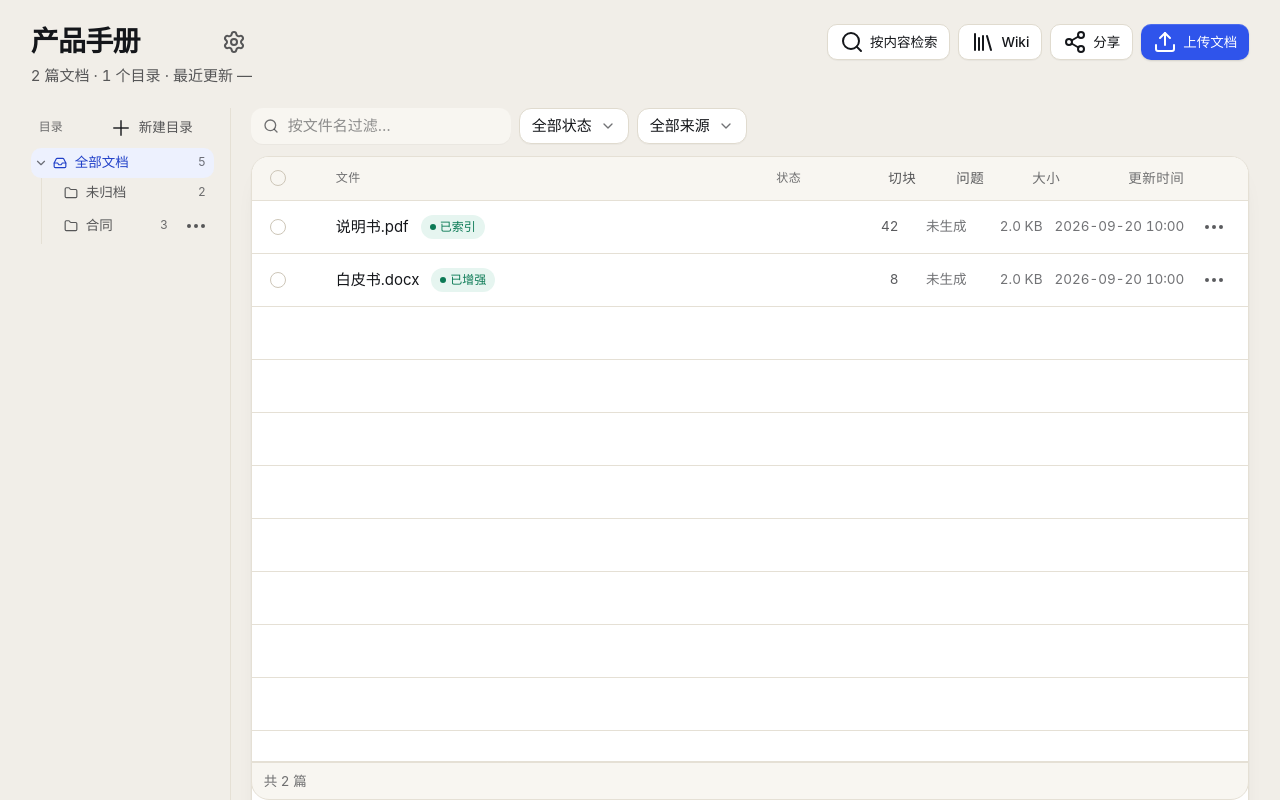
it: 多选与批量 › 表头全选只吃当前页，批量删除走确认弹窗并把 id 原样送出
The image size is (1280, 800).
Expected: the text "说明书.pdf" is shown, [336,215,409,238]
Click the checkbox named "全选本页" at (278, 178), box [270,170,286,186]
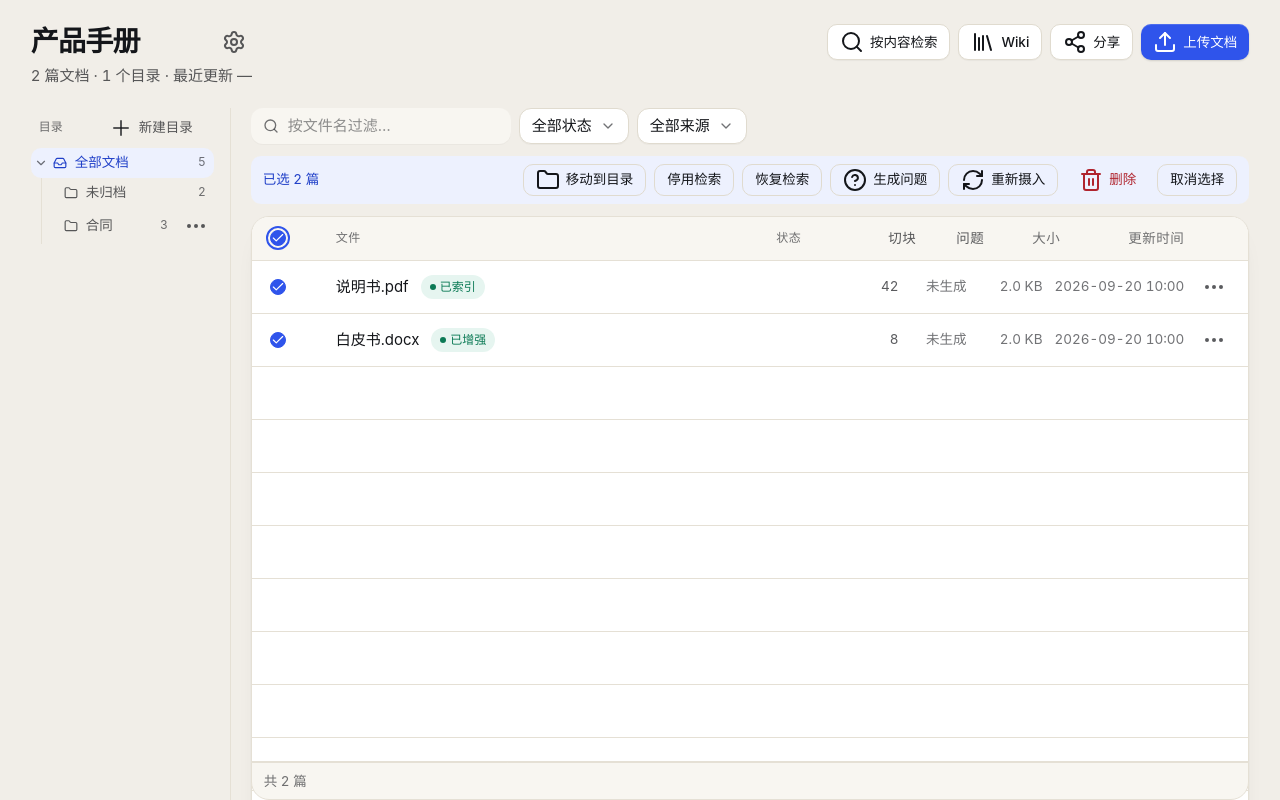
Expected: the text "已选 2 篇" is shown, [263,169,319,190]
Click the button "删除" at (1108, 180), box [1066,164,1149,196]
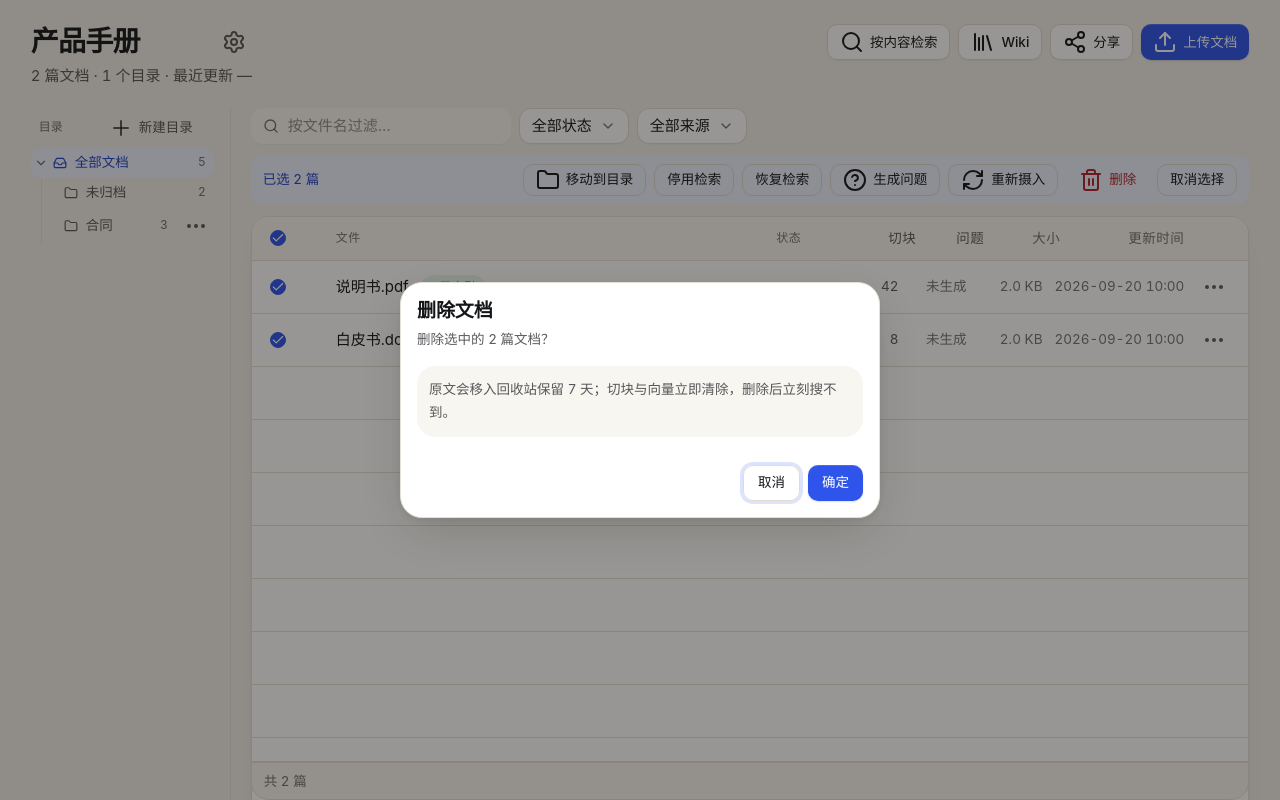
Expected: the text "删除选中的 2 篇文档？" is shown, [417,329,554,350]
确认弹窗是 `@/ui/alert-dialog`（Radix）：role 是 alertdialog，不是 dialog
Click the button "确定" at (836, 483), box [808,465,863,501]
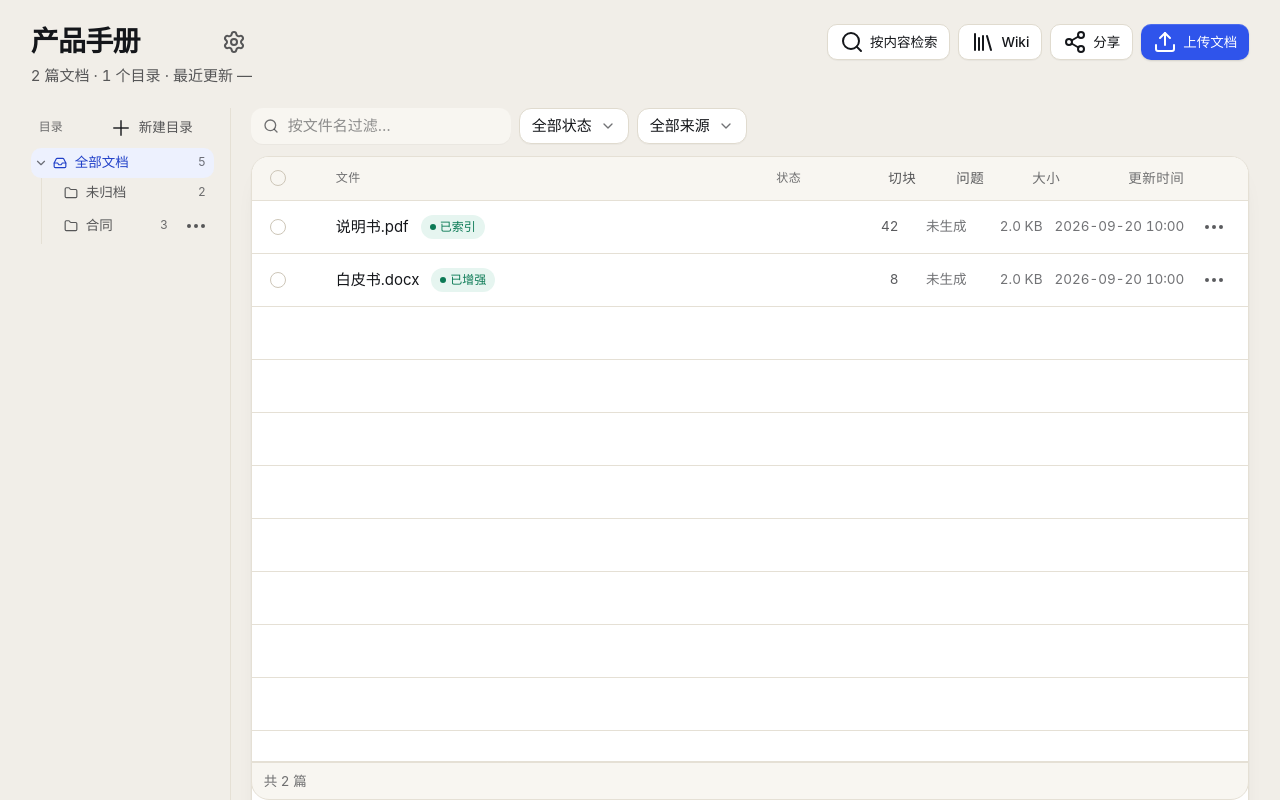
Expected: the text "已选 2 篇" is gone
